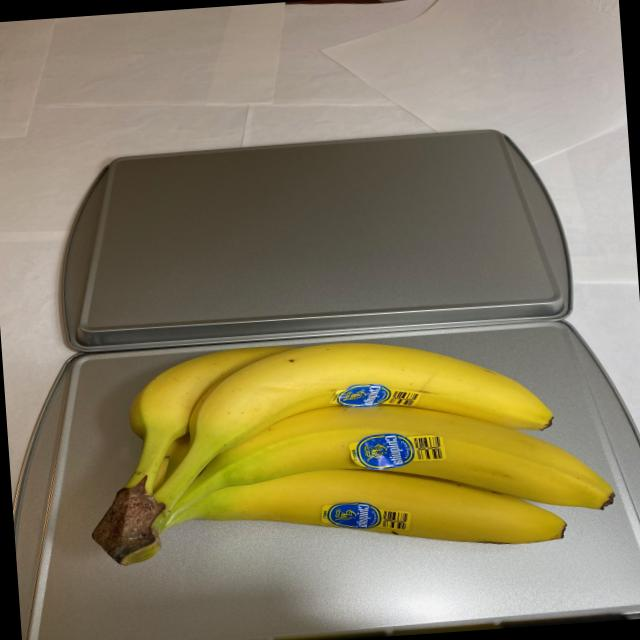banana: (76, 320, 624, 589)
